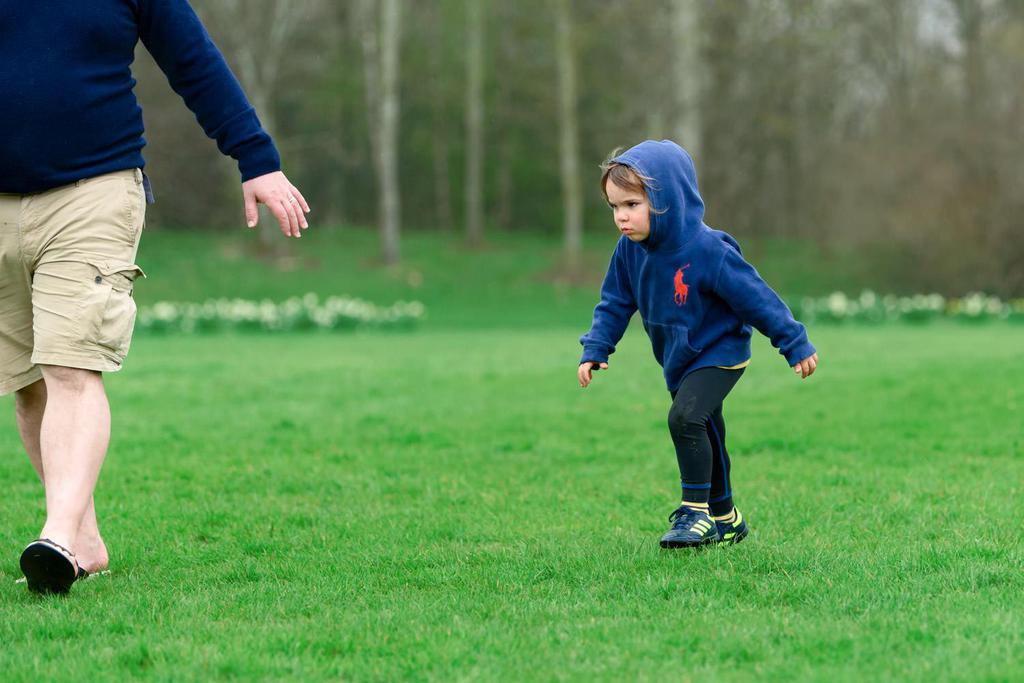child: (545, 126, 833, 579)
